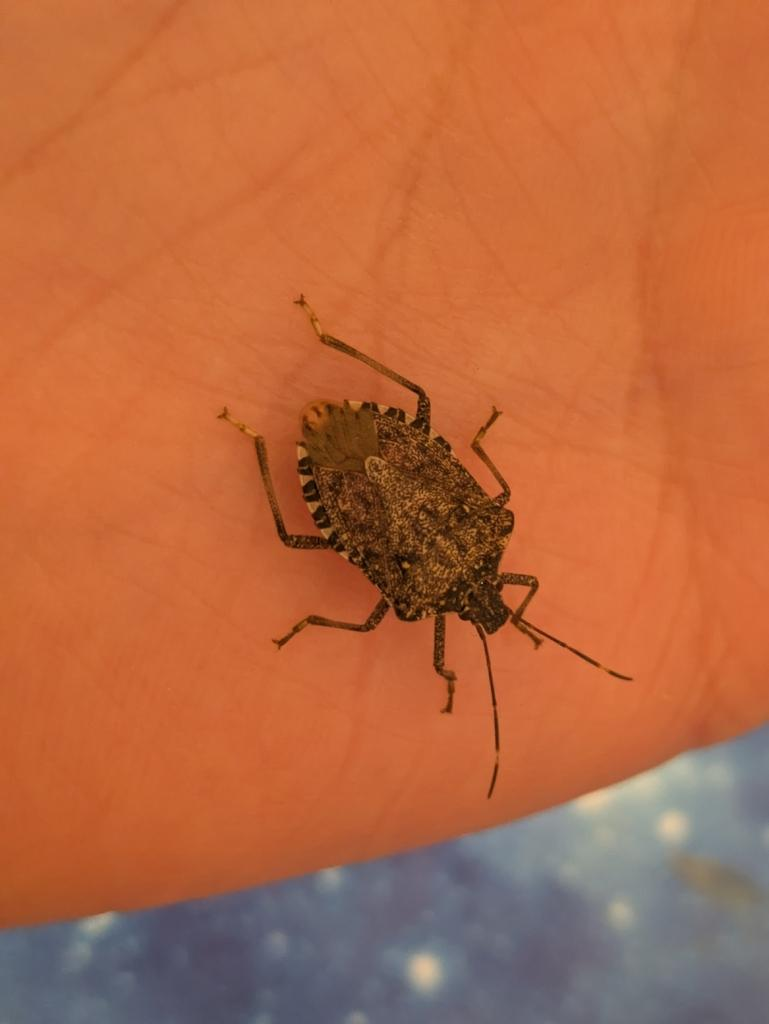stink_bugs: (157, 254, 693, 845)
